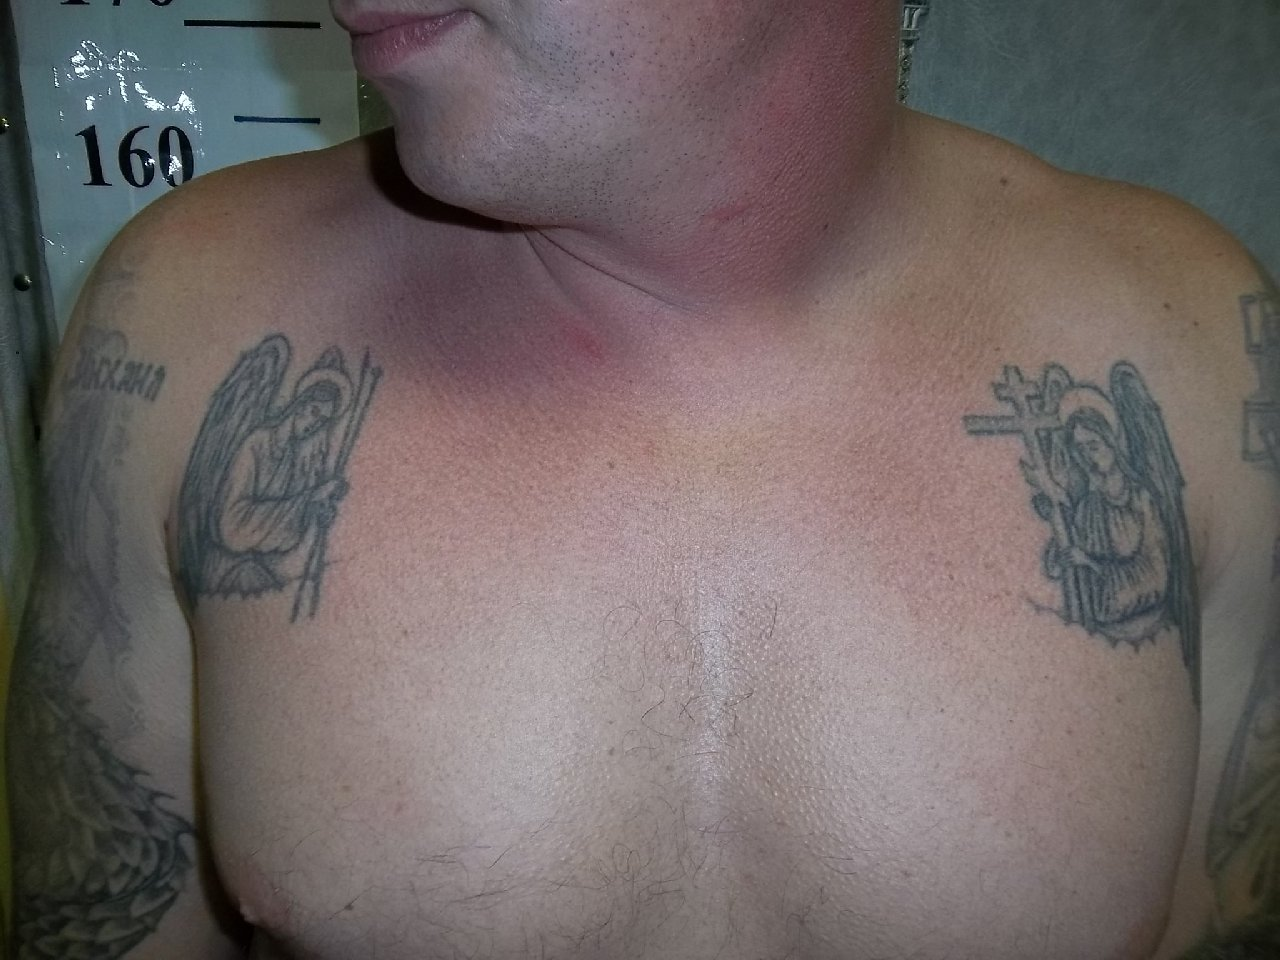tatu1_angel: (951, 330, 1225, 690), (165, 322, 415, 643)
